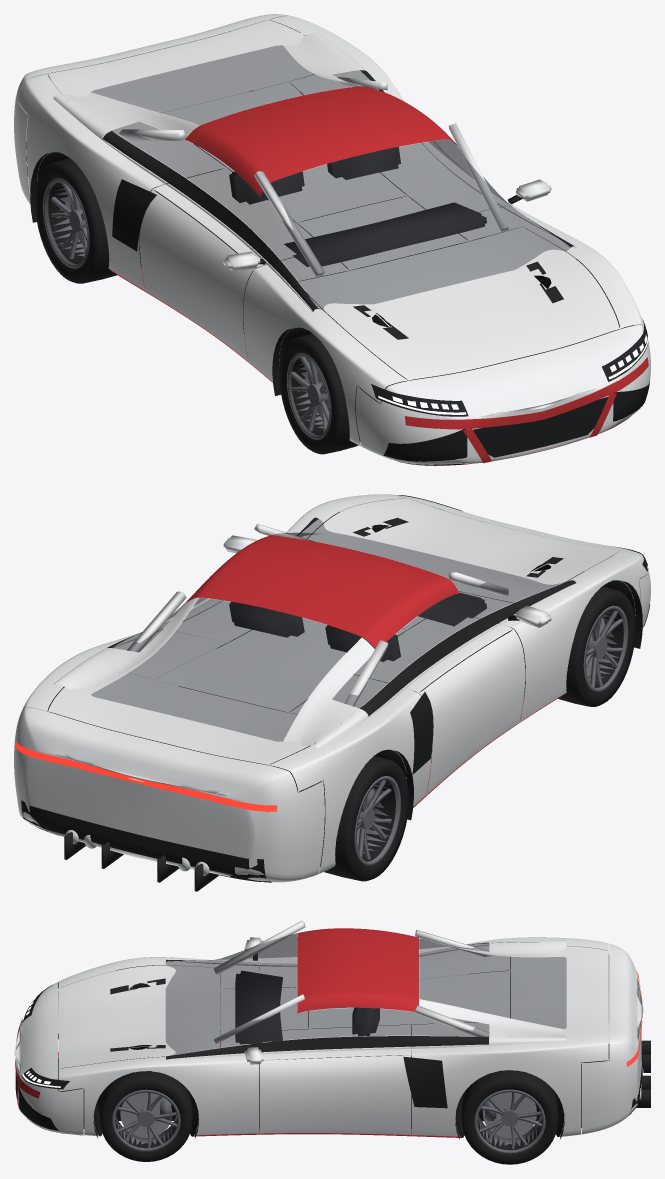
Rendered from tornado_gt_hero.glb.
3 renders of one model, top to bottom at view 1: azimuth 30°, elevation 25°; view 2: azimuth 150°, elevation 25°; view 3: azimuth 270°, elevation 25°, orthographic. The views are drawn at different scales.
Visible parts, largest first — view 1: glass, hood, bumper_front, roof, trunk, quarter_R, door_R, fender_R, deck, interior_dash, wheel_RR_tyre, rocker_R (+24 smaller); view 2: glass, bumper_rear, roof, hood, trunk, deck, door_R, quarter_R, fender_R, pillars, wheel_RR_tyre, diffuser (+19 smaller); view 3: glass, hood, door_L, quarter_L, roof, fender_L, trunk, bumper_rear, bumper_front, deck, wheel_RL_tyre, wheel_FL_tyre (+23 smaller).
Part boxes in pixels (x1,y1,x2,y2): glass: (91, 45, 570, 310); hood: (298, 227, 619, 380); bumper_front: (356, 324, 650, 464); roof: (184, 86, 456, 197); trunk: (48, 20, 313, 124); quarter_R: (17, 73, 226, 290); door_R: (139, 189, 254, 362); fender_R: (243, 257, 407, 446); deck: (161, 82, 407, 222); interior_dash: (281, 202, 486, 279); wheel_RR_tyre: (35, 158, 117, 283); rocker_R: (153, 168, 312, 268); glass: (91, 519, 566, 741); bumper_rear: (14, 707, 324, 882); roof: (185, 535, 459, 648); hood: (308, 498, 619, 602); trunk: (48, 672, 341, 764); deck: (155, 617, 407, 712); door_R: (419, 629, 525, 794); quarter_R: (268, 674, 431, 874); fender_R: (468, 550, 647, 722); pillars: (59, 598, 374, 745); wheel_RR_tyre: (320, 755, 408, 881); diffuser: (21, 800, 271, 882); glass: (166, 933, 566, 1055); hood: (59, 965, 220, 1068); door_L: (259, 1055, 411, 1135); quarter_L: (411, 1022, 608, 1136); roof: (297, 928, 418, 1013); fender_L: (58, 1034, 259, 1136); trunk: (511, 946, 608, 1037); bumper_rear: (581, 943, 643, 1134); bumper_front: (14, 982, 83, 1135); deck: (309, 971, 510, 1028); wheel_RL_tyre: (461, 1070, 558, 1164); wheel_FL_tyre: (99, 1071, 192, 1161).
Bounding box in the file's own units: 2.08 × 1.2 × 4.61.
